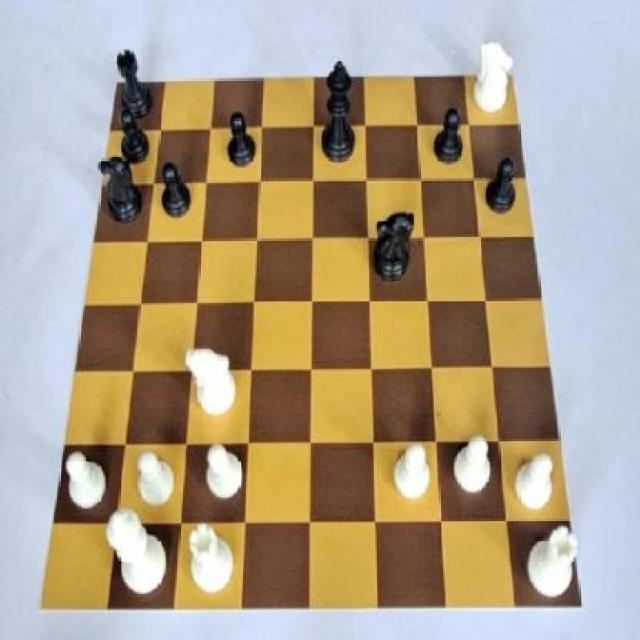black-bishop: (317, 60, 365, 169)
black-king: (94, 149, 144, 232), (372, 205, 417, 289)
black-knight: (152, 158, 195, 224), (111, 106, 151, 172), (220, 111, 262, 168), (430, 108, 466, 174), (483, 151, 517, 216)
black-queen: (110, 43, 158, 124)
white-bishop: (106, 503, 172, 608)
white-king: (183, 337, 241, 427), (471, 32, 519, 120)
white-knight: (389, 440, 443, 509), (64, 443, 110, 521), (198, 443, 250, 511), (130, 446, 178, 516), (509, 450, 558, 516), (452, 431, 494, 503)
white-queen: (525, 523, 583, 601), (184, 523, 238, 602)
